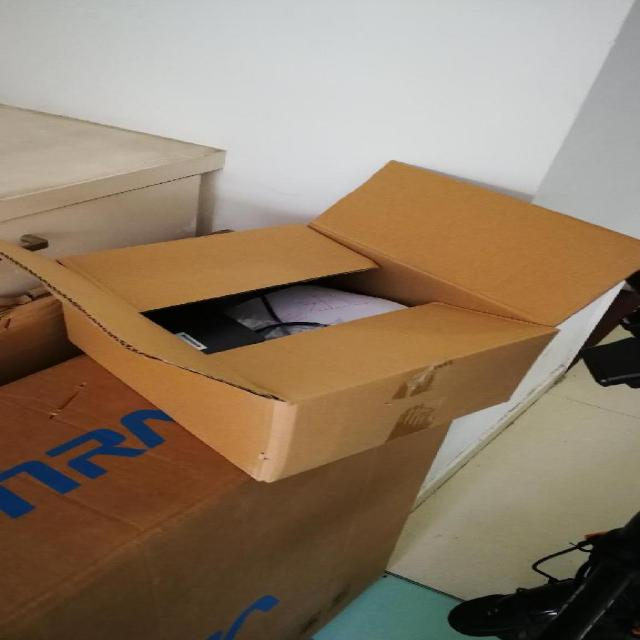cardboard: (0, 155, 633, 474), (0, 356, 442, 640)
